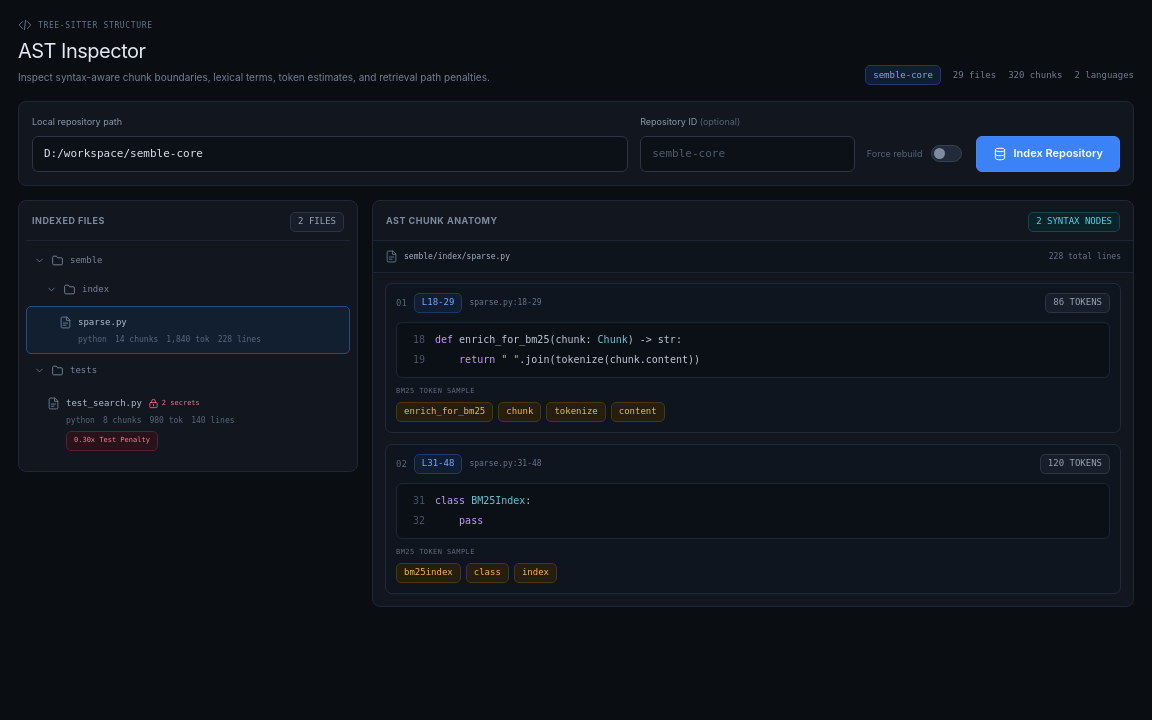
Test: InspectorWorkspace › validates indexing input before calling the backend
expect the text "L18-29" is shown: met, box [414,292,462,312]
Clear the field labelled "Local repository path" at (330, 154), box [32,136,628,172]
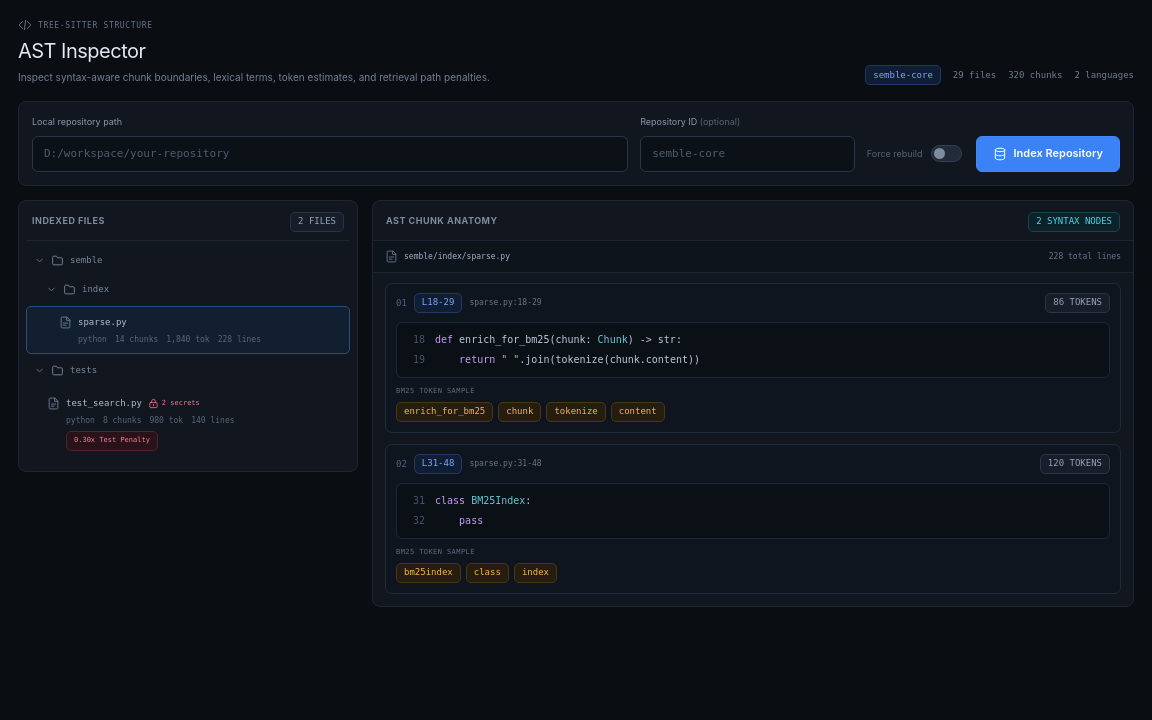
Click the button "Index Repository" at (1048, 154), box [976,136,1120,172]
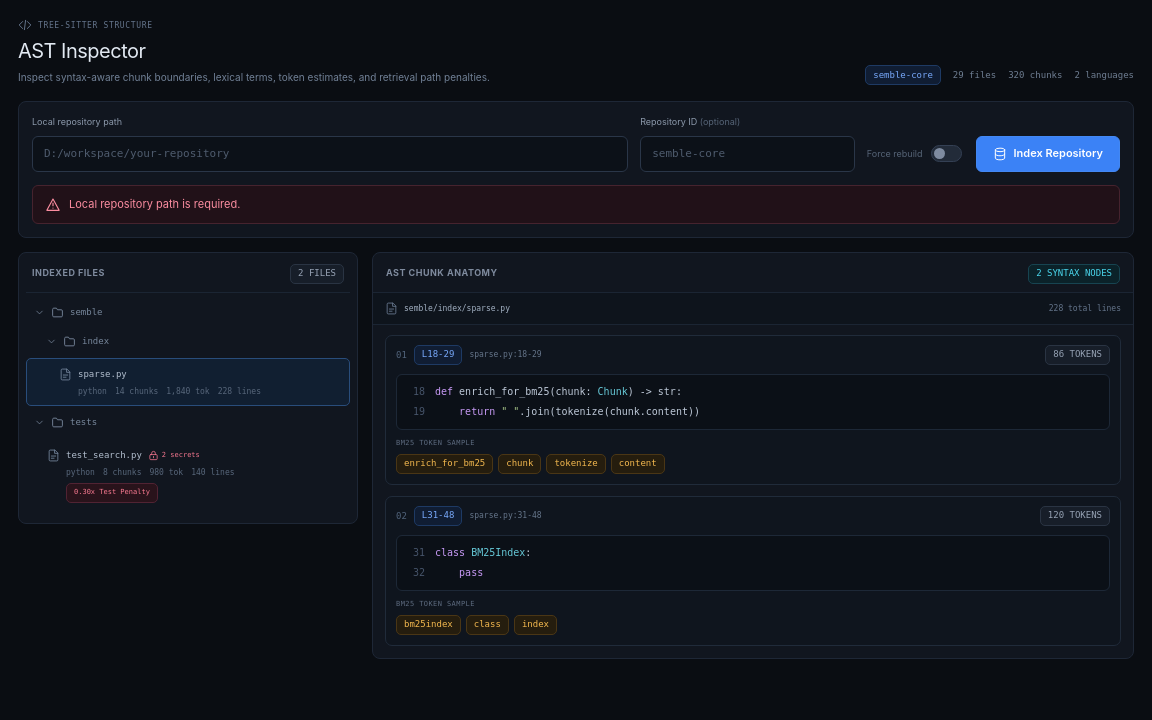
expect the message shows "Local repository path is required": met, box [69,196,240,210]
Type "D:/workspace/semble-core" into the field labelled "Local repository path" at (330, 154), box [32,136,628,172]
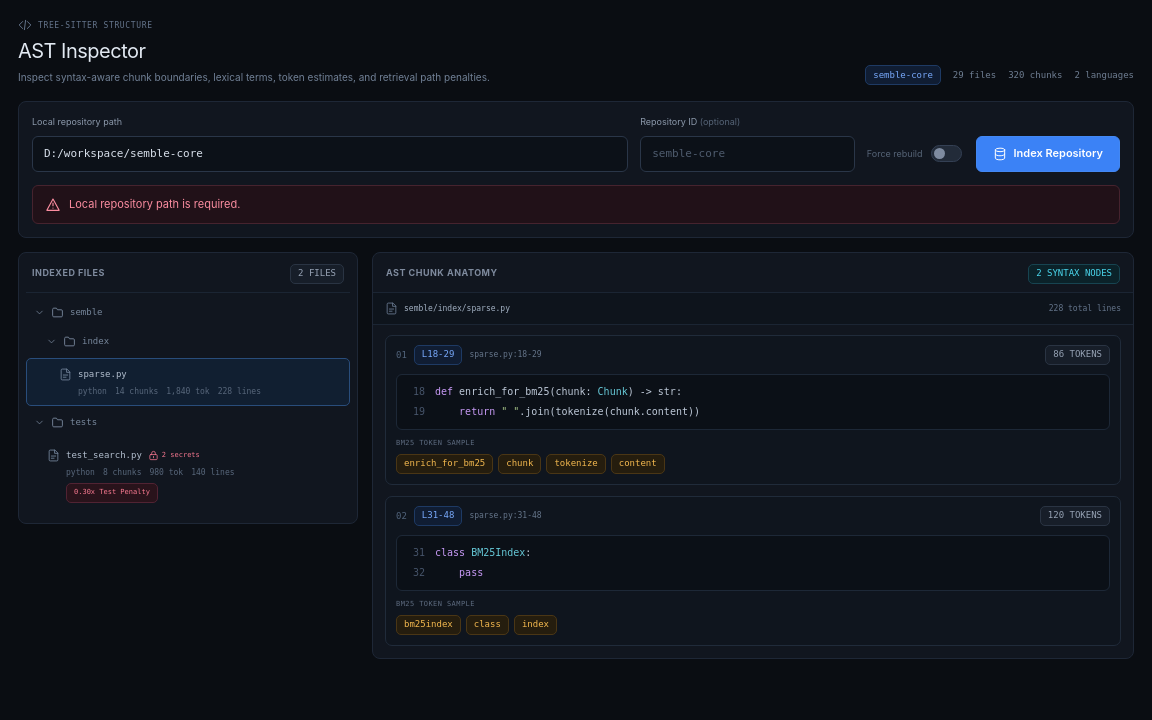
Type "bad id" into the field labelled "Repository ID (optional)" at (748, 154), box [640,136,855,172]
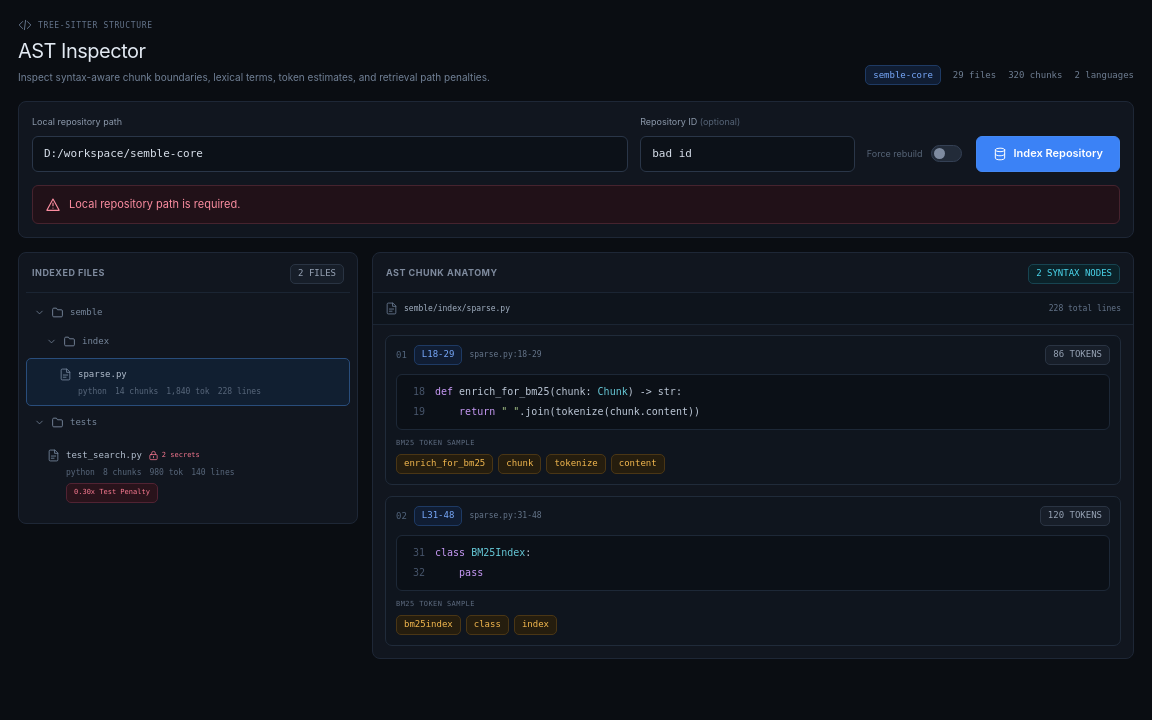
Click the button "Index Repository" at (1048, 154), box [976,136,1120,172]
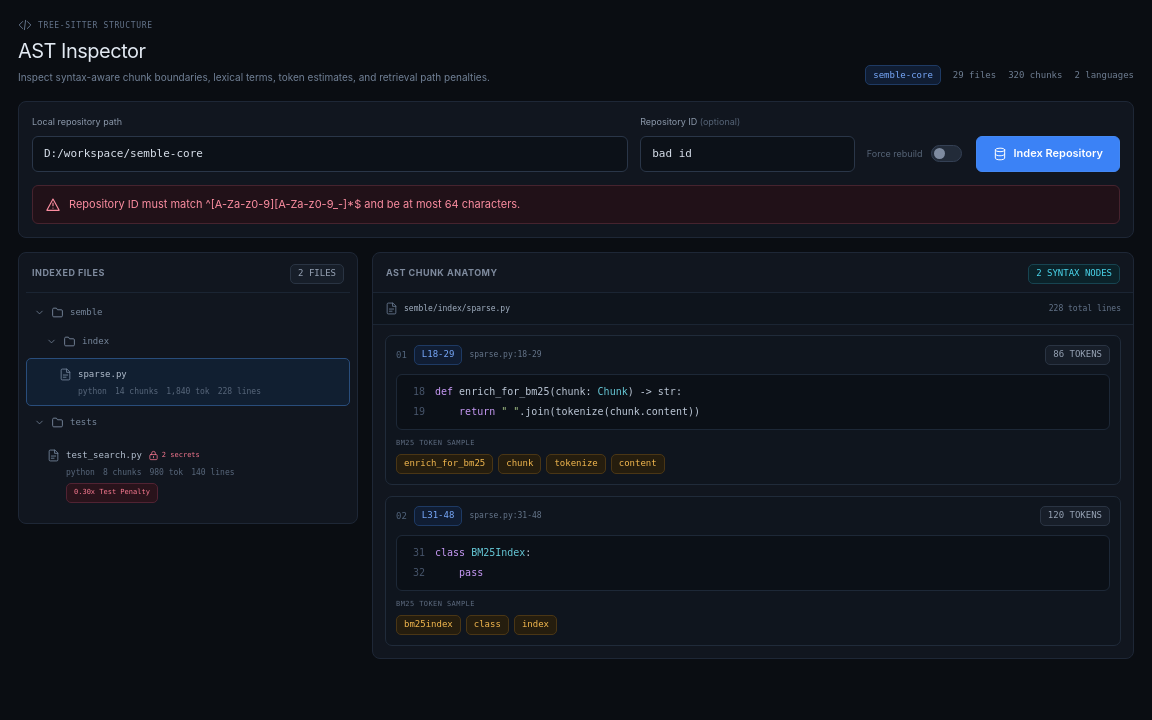
expect the message shows "Repository ID must match": met, box [69,196,520,210]
